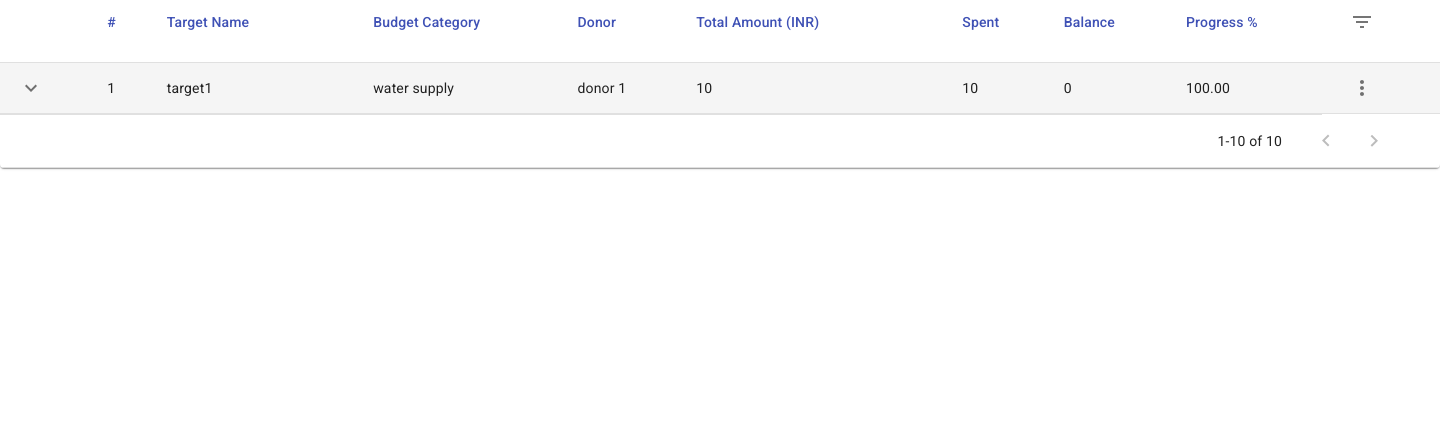
Test: Budget Target Table tests › Table Headings and Data listing of Budget trackline table
Click the button named "expand row" at [31, 88], box x1=16 y1=73 x2=46 y2=103
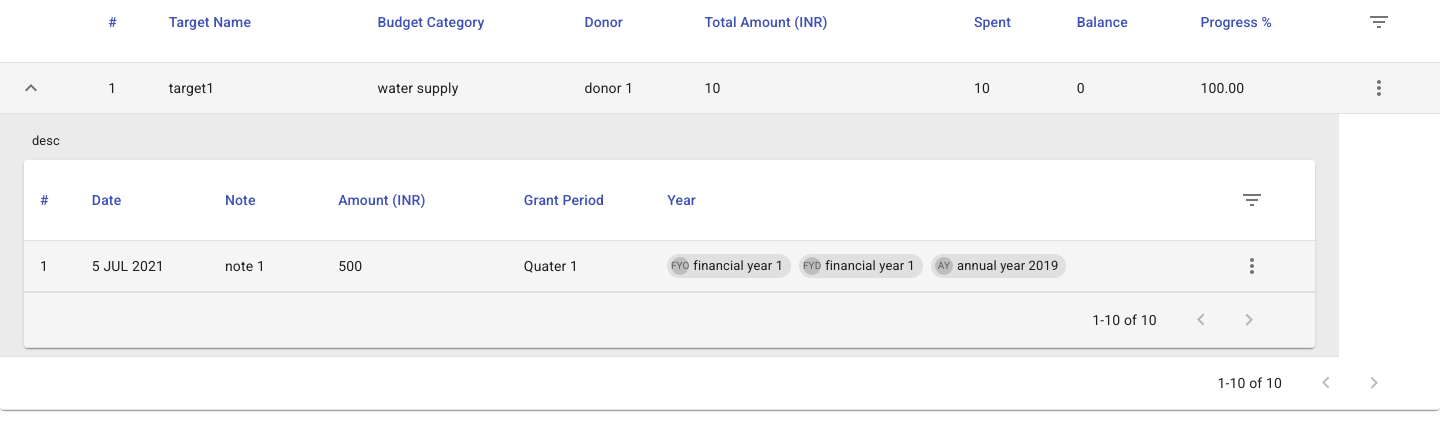
Expected: the text "note 1" is shown, x1=209 y1=241 x2=322 y2=292
Expected: the text "500" is shown, x1=322 y1=241 x2=508 y2=292
